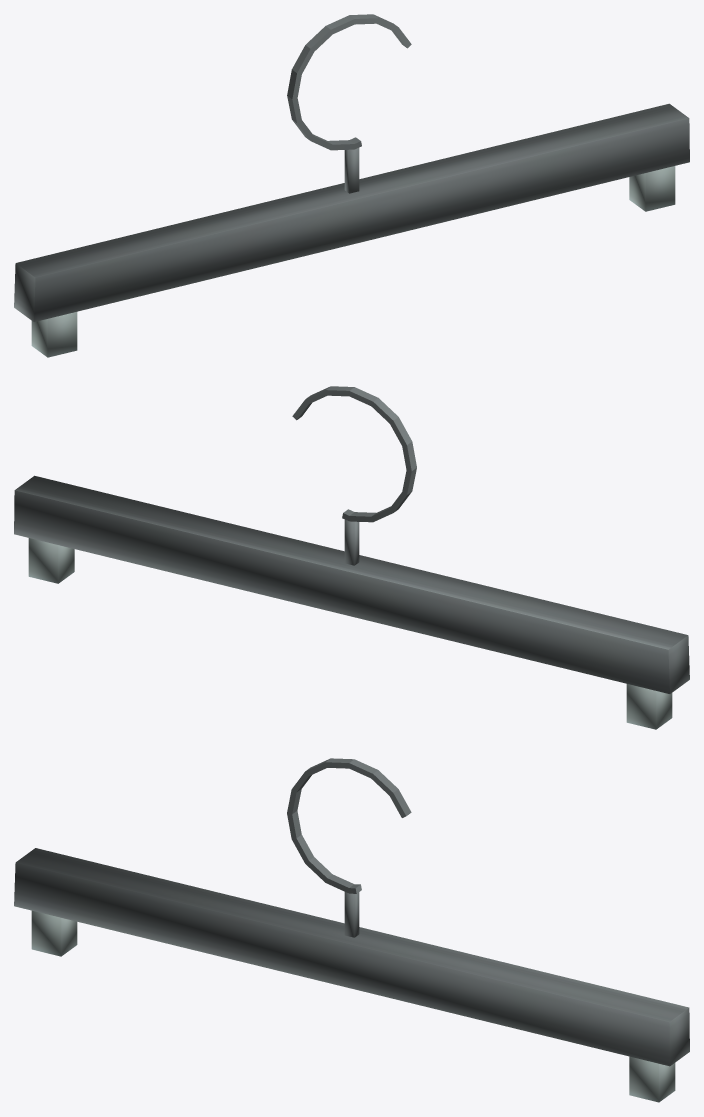
The model's file is prop_fuku_hanger02.fbx.
The picture shows the model from 3 angles, top to bottom: view 1: azimuth 30°, elevation 25°; view 2: azimuth 150°, elevation 25°; view 3: azimuth 330°, elevation 25°; orthographic projection.
Visible parts, largest first — view 1: prop_fuku_hanger02; view 2: prop_fuku_hanger02; view 3: prop_fuku_hanger02.
Part boxes in pixels (x1,y1,x2,y2): prop_fuku_hanger02: (14, 14, 689, 357); prop_fuku_hanger02: (14, 386, 689, 729); prop_fuku_hanger02: (14, 758, 689, 1102).
Size of the model in its own units: 0.3024 by 0.1139 by 0.0159.
